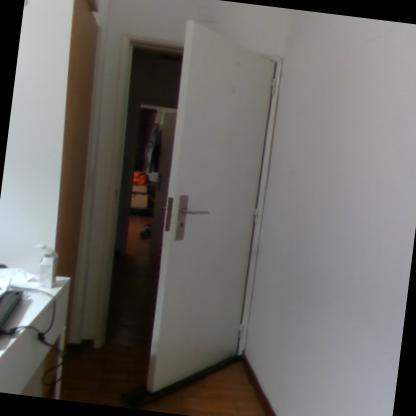semi: (68, 0, 287, 415)
